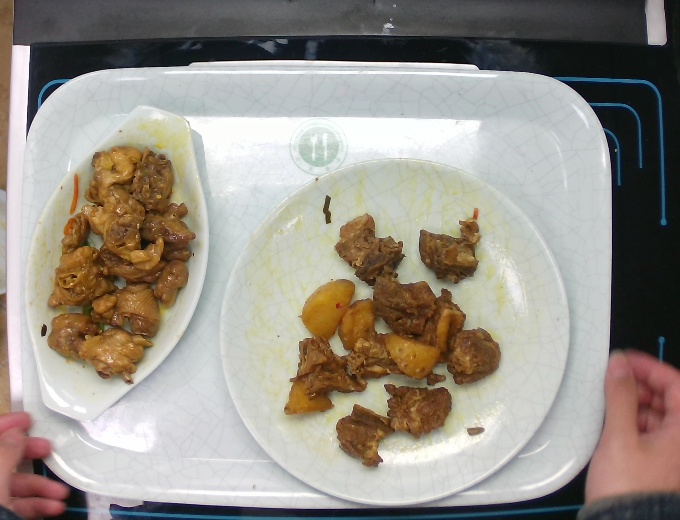JYsf-Da_Yuan_Pan: (215, 151, 577, 510)
JYsf-Yu_Pan: (24, 100, 213, 428)
